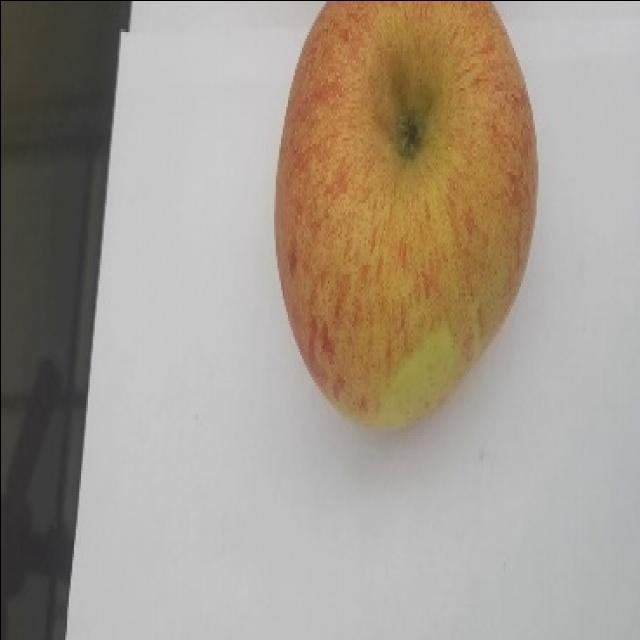Apple: (272, 0, 540, 434)
